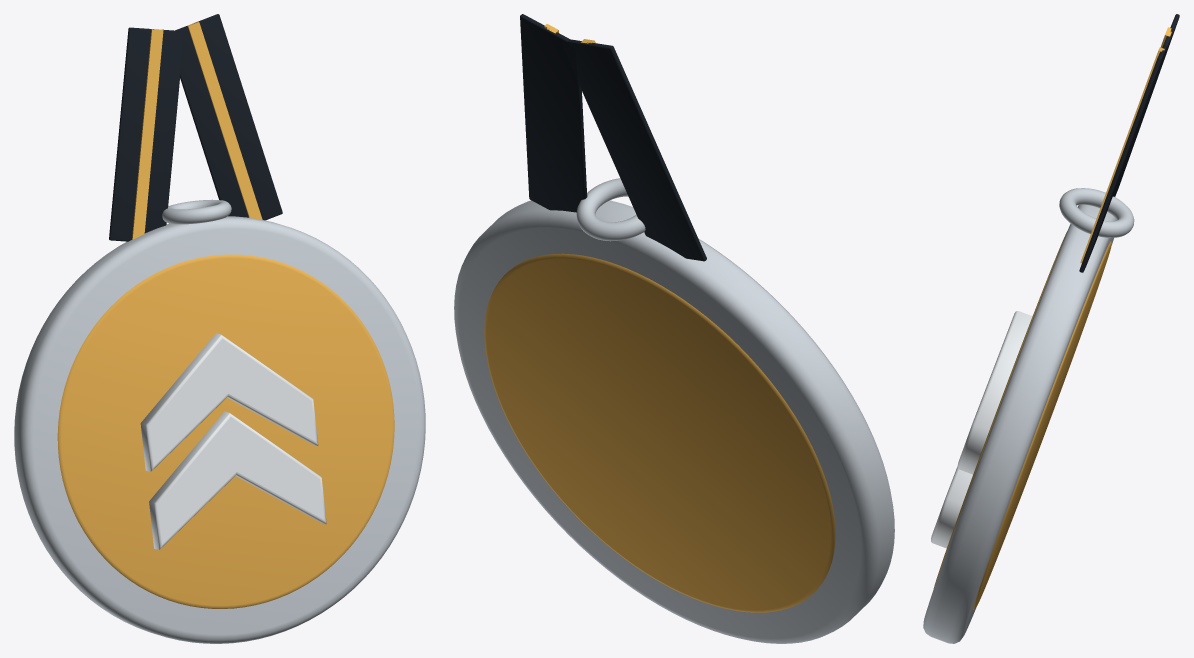
File: record-medal.glb
The picture shows the model from 3 angles, left to right: view 1: azimuth 30°, elevation 25°; view 2: azimuth 150°, elevation 25°; view 3: azimuth 270°, elevation 25°; orthographic projection. The views are drawn at different scales.
Visible parts, largest first — view 1: titan.medal.face, titan.medal.rim, titan.medal.chevron.1, titan.medal.chevron.0, titan.medal.ribbon.-1, titan.medal.ribbon.1, titan.medal.ribbon-line.-1, titan.medal.ribbon-line.1, titan.medal.ring; view 2: titan.medal.face, titan.medal.rim, titan.medal.ribbon.-1, titan.medal.ribbon.1, titan.medal.ring; view 3: titan.medal.rim, titan.medal.face, titan.medal.chevron.0, titan.medal.ring, titan.medal.ribbon.1, titan.medal.chevron.1, titan.medal.ribbon.-1, titan.medal.ribbon-line.1.
Boxes of the visible parts, box(x1,y1,x2,y2) form: titan.medal.face: box(57, 254, 394, 608); titan.medal.rim: box(14, 216, 425, 643); titan.medal.chevron.1: box(149, 411, 326, 549); titan.medal.chevron.0: box(140, 333, 318, 471); titan.medal.ribbon.-1: box(109, 27, 183, 241); titan.medal.ribbon.1: box(175, 14, 282, 220); titan.medal.ribbon-line.-1: box(132, 29, 163, 239); titan.medal.ribbon-line.1: box(187, 22, 262, 219); titan.medal.ring: box(162, 199, 231, 224); titan.medal.face: box(484, 253, 835, 612); titan.medal.rim: box(454, 200, 894, 643); titan.medal.ribbon.-1: box(561, 39, 706, 261); titan.medal.ribbon.1: box(520, 14, 587, 212); titan.medal.ring: box(576, 178, 645, 241); titan.medal.rim: box(923, 204, 1116, 643); titan.medal.face: box(933, 232, 1111, 609); titan.medal.chevron.0: box(957, 311, 1032, 474); titan.medal.ring: box(1059, 188, 1134, 237); titan.medal.ribbon.1: box(1079, 45, 1167, 272); titan.medal.chevron.1: box(931, 466, 972, 548); titan.medal.ribbon.-1: box(1113, 14, 1179, 196); titan.medal.ribbon-line.1: box(1080, 47, 1164, 263).
Size of the model in its own units: 1.23 by 1.73 by 0.6717.
